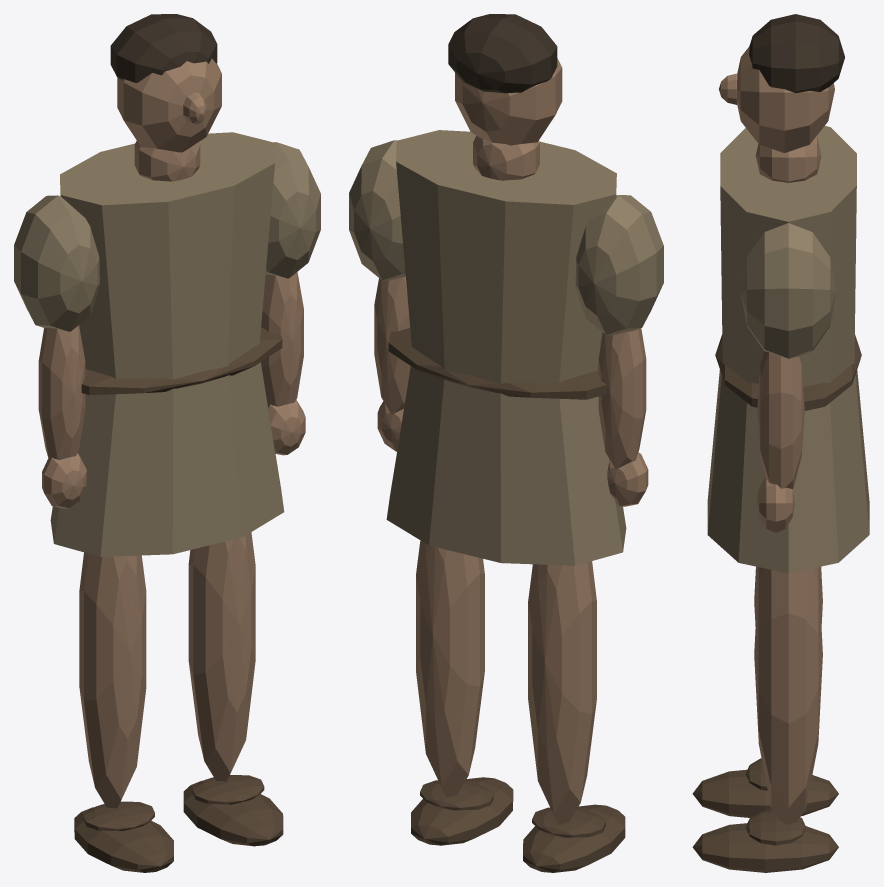
Rendered from roman-villager.glb.
3 views of the same model, side by side, from view 1: azimuth 30°, elevation 25°; view 2: azimuth 150°, elevation 25°; view 3: azimuth 270°, elevation 25° (orthographic). The views are drawn at different scales.
Visible parts, largest first — view 1: belt, leftSandal, rightSandal, leftForearm, rightForearm; view 2: belt, leftSandal, rightSandal, leftForearm, rightForearm; view 3: belt, rightSandal, rightForearm, leftSandal.
Boxes of the visible parts, x1,y1,x2,y2 form: belt: [50, 14, 284, 556]; leftSandal: [74, 552, 173, 872]; rightSandal: [183, 532, 283, 846]; leftForearm: [14, 195, 99, 508]; rightForearm: [261, 142, 320, 455]; belt: [386, 14, 626, 565]; leftSandal: [523, 561, 625, 872]; rightSandal: [411, 540, 513, 845]; leftForearm: [575, 195, 663, 506]; rightForearm: [349, 140, 410, 451]; belt: [707, 14, 869, 573]; rightSandal: [692, 567, 838, 872]; rightForearm: [740, 223, 836, 532]; leftSandal: [692, 566, 838, 817].
Bounding box in the file's own units: 0.67 × 1.78 × 0.35.
